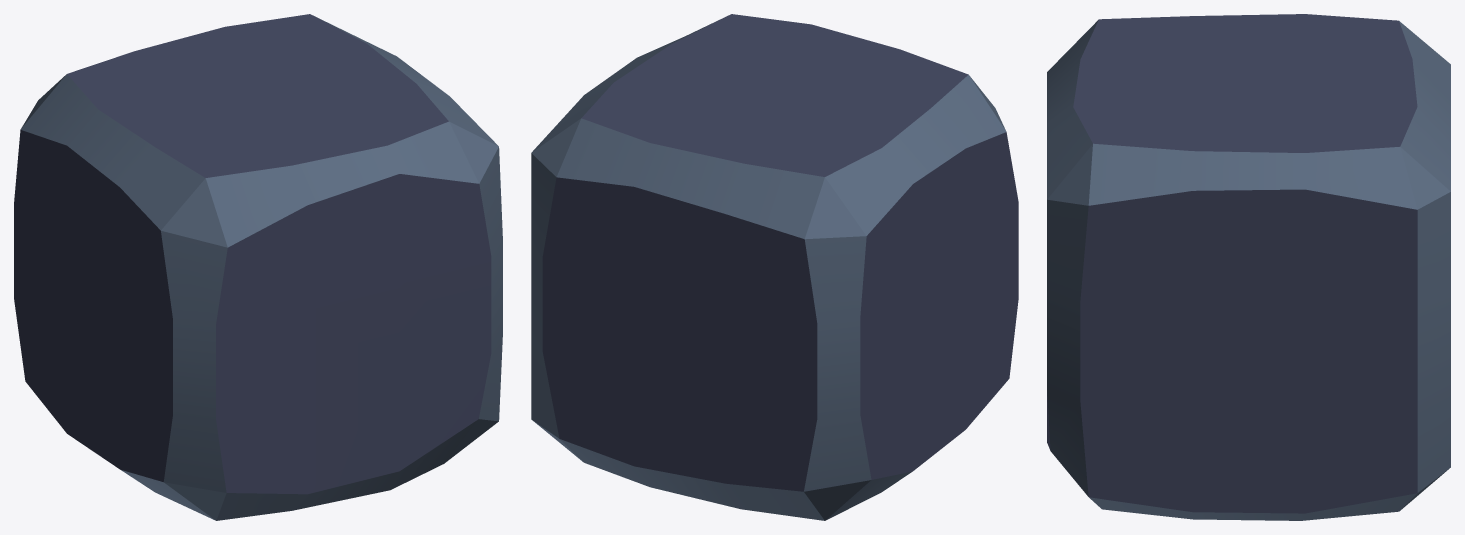
File: Coal_Ore.fbx
3 views of the same model, side by side, from view 1: azimuth 30°, elevation 25°; view 2: azimuth 150°, elevation 25°; view 3: azimuth 270°, elevation 25° (orthographic). The views are drawn at different scales.
Visible parts, largest first — view 1: Cube.021; view 2: Cube.021; view 3: Cube.021.
Boxes of the visible parts, x1=… form: Cube.021: x1=14, y1=14, x2=502, y2=520; Cube.021: x1=531, y1=14, x2=1018, y2=520; Cube.021: x1=1047, y1=14, x2=1450, y2=520.
Size of the model in its own units: 30.38 by 30.38 by 30.38.
